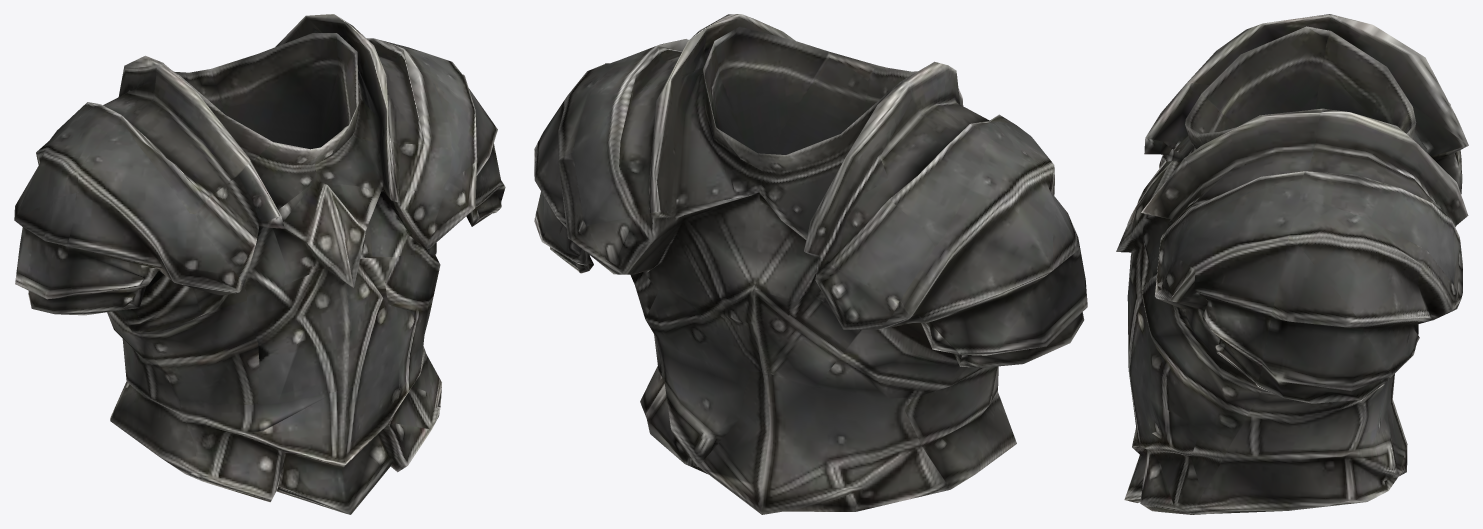
File: Iron_Chest_Armor.glb
3 views of the same model, side by side, from view 1: azimuth 30°, elevation 25°; view 2: azimuth 150°, elevation 25°; view 3: azimuth 270°, elevation 25° (orthographic). The views are drawn at different scales.
Size of the model in its own units: 1.89 by 1.58 by 1.15.
1 material, 1 textured.
